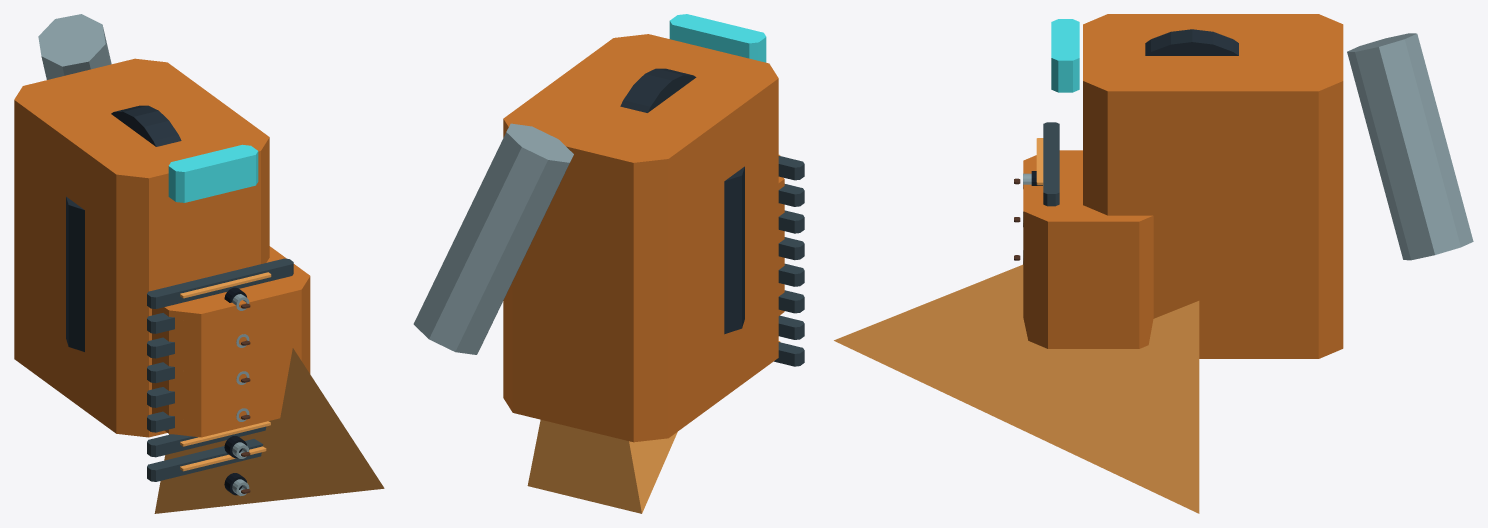
Rendered from enemy_runner_4k_forearm_r.obj.
The picture shows the model from 3 angles, left to right: view 1: azimuth 30°, elevation 25°; view 2: azimuth 150°, elevation 25°; view 3: azimuth 270°, elevation 25°; orthographic projection. The views are drawn at different scales.
Bounding box in the file's own units: 0.3316 × 0.6816 × 0.91.
